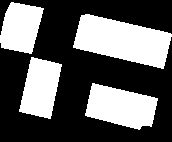parkingspot: (73, 14, 171, 68), (85, 83, 157, 129), (19, 57, 61, 118), (0, 2, 43, 53)
